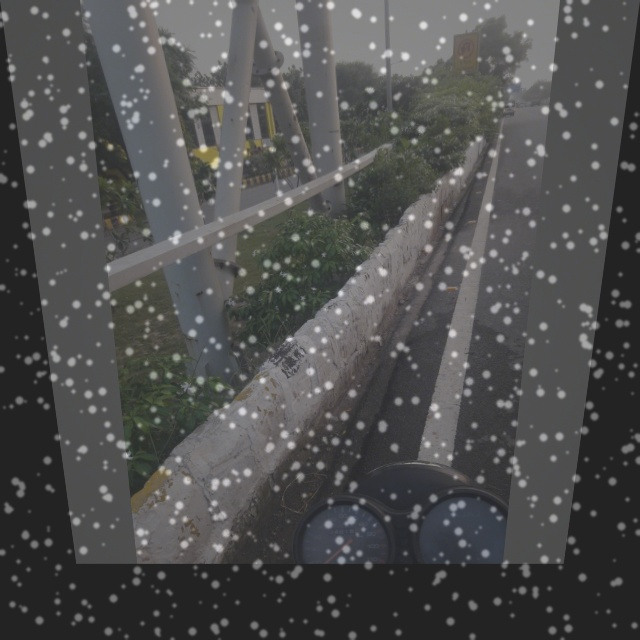U_Turn_Prohibited: (452, 34, 483, 71)
